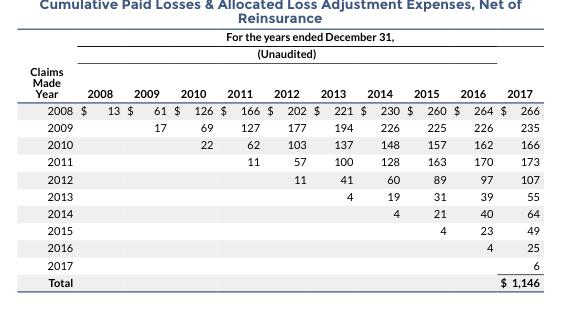table: (29, 29, 538, 288)
table column: (75, 29, 122, 288), (122, 29, 169, 288), (169, 29, 216, 288), (262, 29, 309, 288), (355, 29, 402, 288), (402, 29, 449, 288), (29, 29, 75, 288), (216, 29, 262, 288), (309, 29, 355, 288), (449, 29, 495, 288), (495, 29, 538, 288)
table column header: (29, 29, 538, 100)
table row: (29, 44, 538, 72), (29, 72, 538, 100), (29, 100, 538, 118), (29, 186, 538, 204), (29, 118, 538, 135), (29, 135, 538, 152), (29, 152, 538, 169), (29, 169, 538, 186), (29, 204, 538, 221), (29, 221, 538, 238), (29, 238, 538, 255), (29, 255, 538, 272), (29, 272, 538, 288), (29, 29, 538, 44)
table spanning cell: (75, 44, 495, 72), (75, 29, 538, 44), (29, 29, 75, 100), (495, 44, 538, 100)
